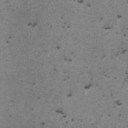oxide scale of temperature system: (41, 45, 93, 126), (102, 14, 128, 78), (60, 16, 70, 29), (77, 0, 92, 7), (28, 22, 38, 29), (6, 34, 12, 44), (115, 99, 123, 106), (32, 82, 36, 86)
